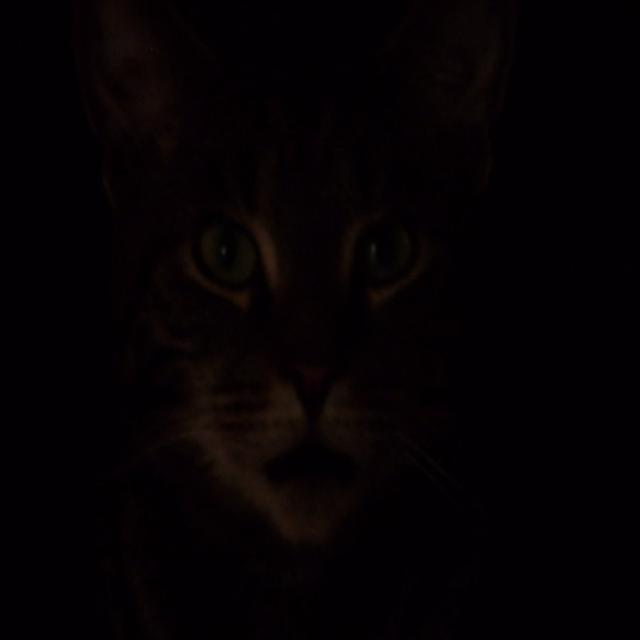Cat: (46, 3, 575, 640)
